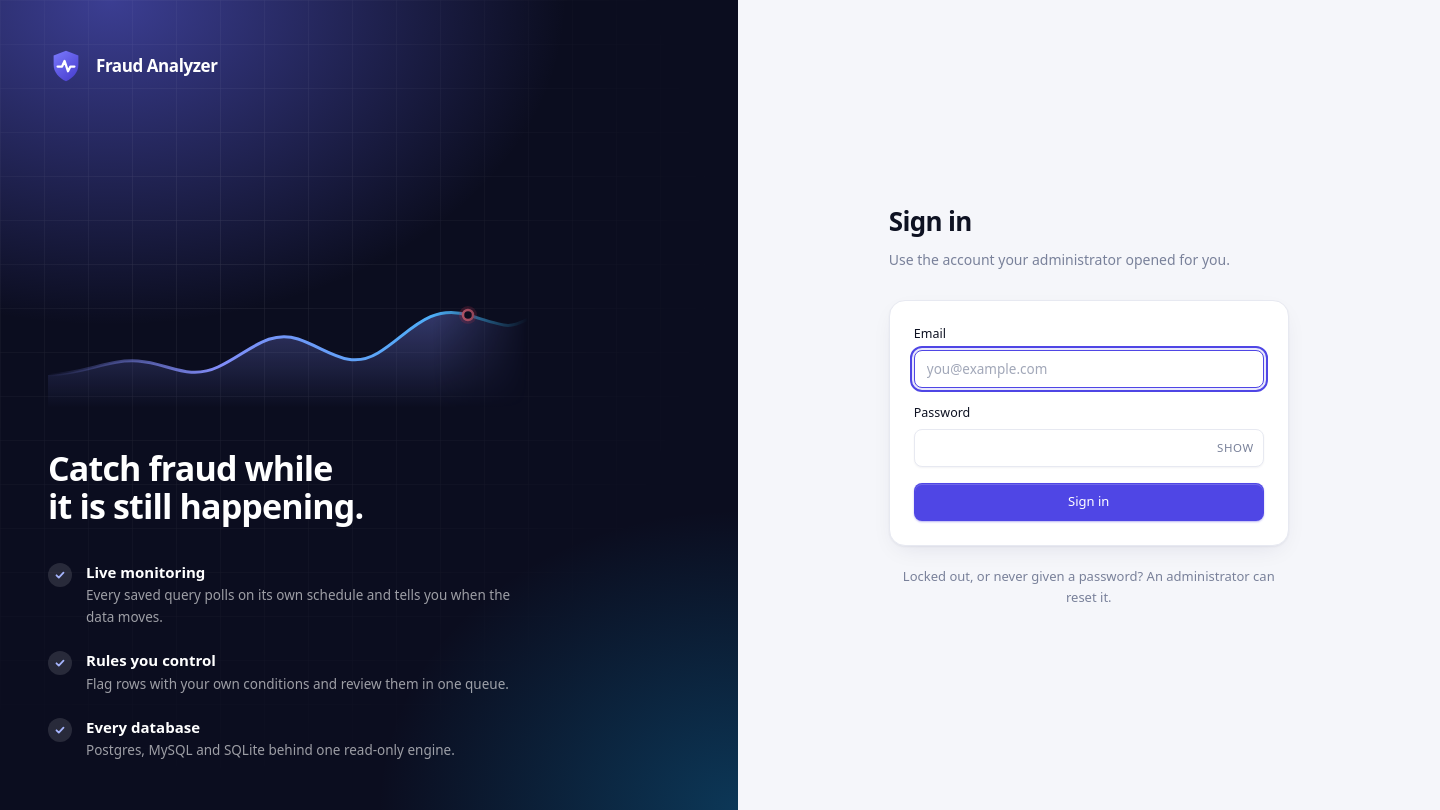
Test case: when it goes wrong › announces the failure rather than only drawing it
Type "ada@example.com" into the field labelled "Email" at (1089, 369), box [914,350,1264,388]
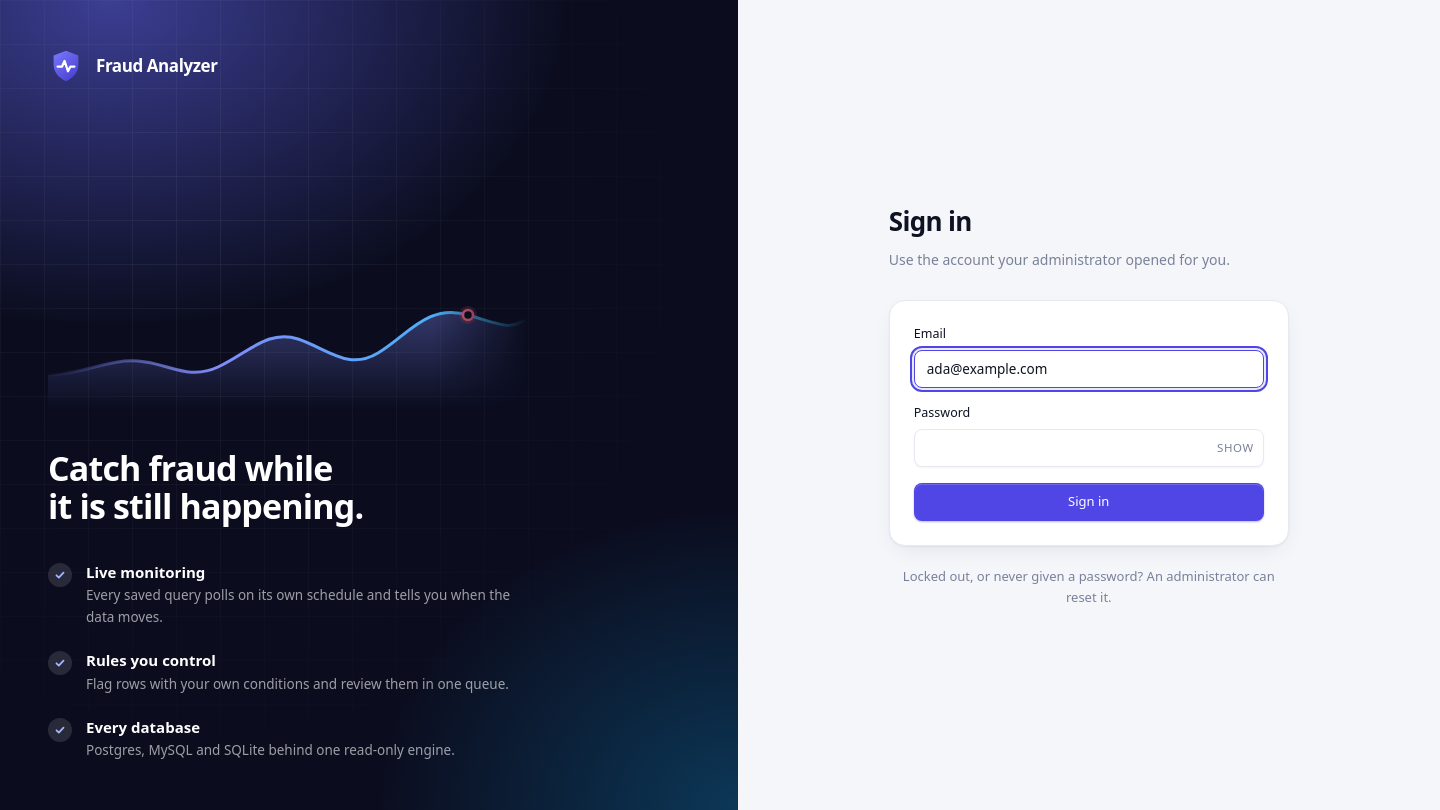
Type "hunter2hunter2" into the password field labelled "Password" at (1089, 448), box [914,429,1264,467]
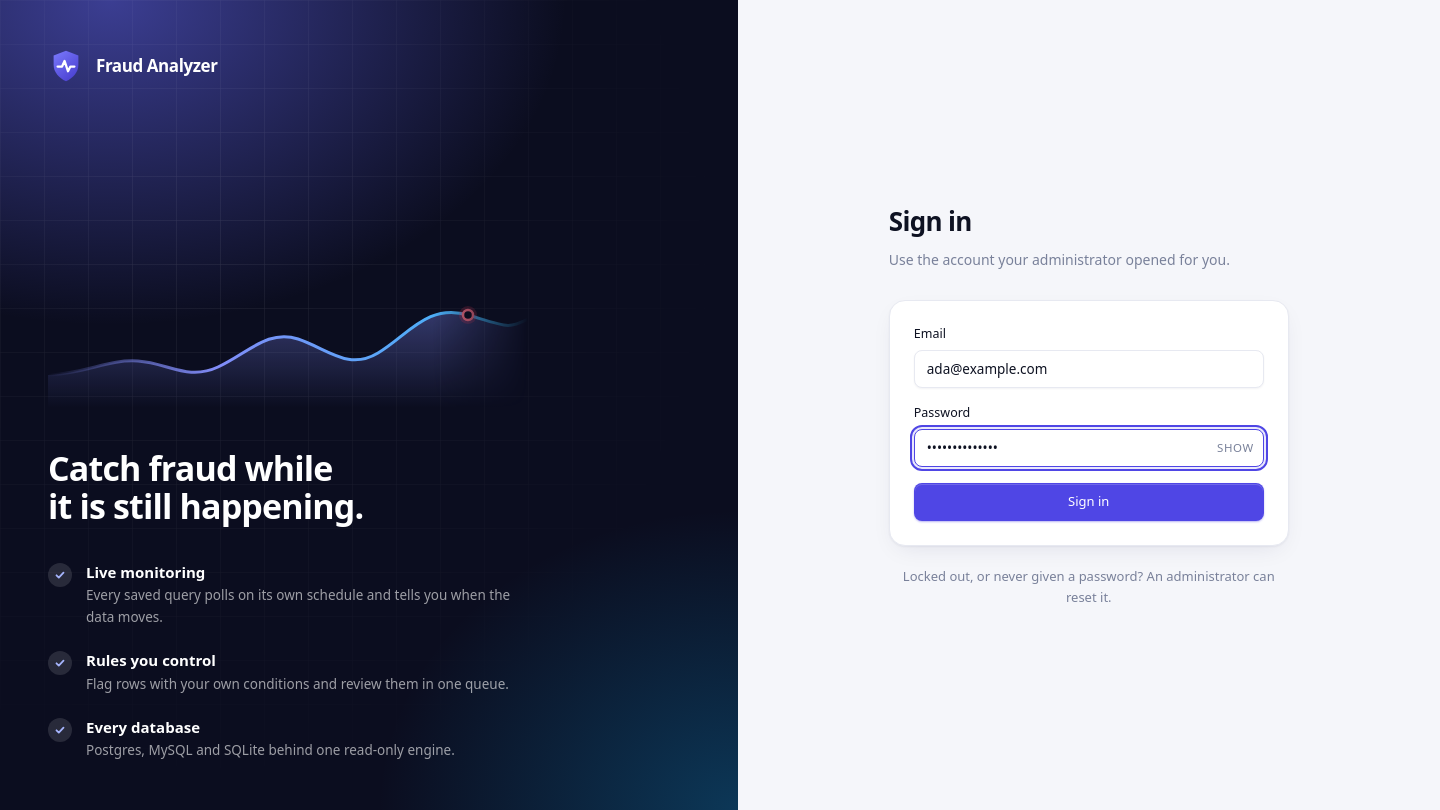
Click the button "Sign in" at (1089, 502), box [914,483,1264,520]
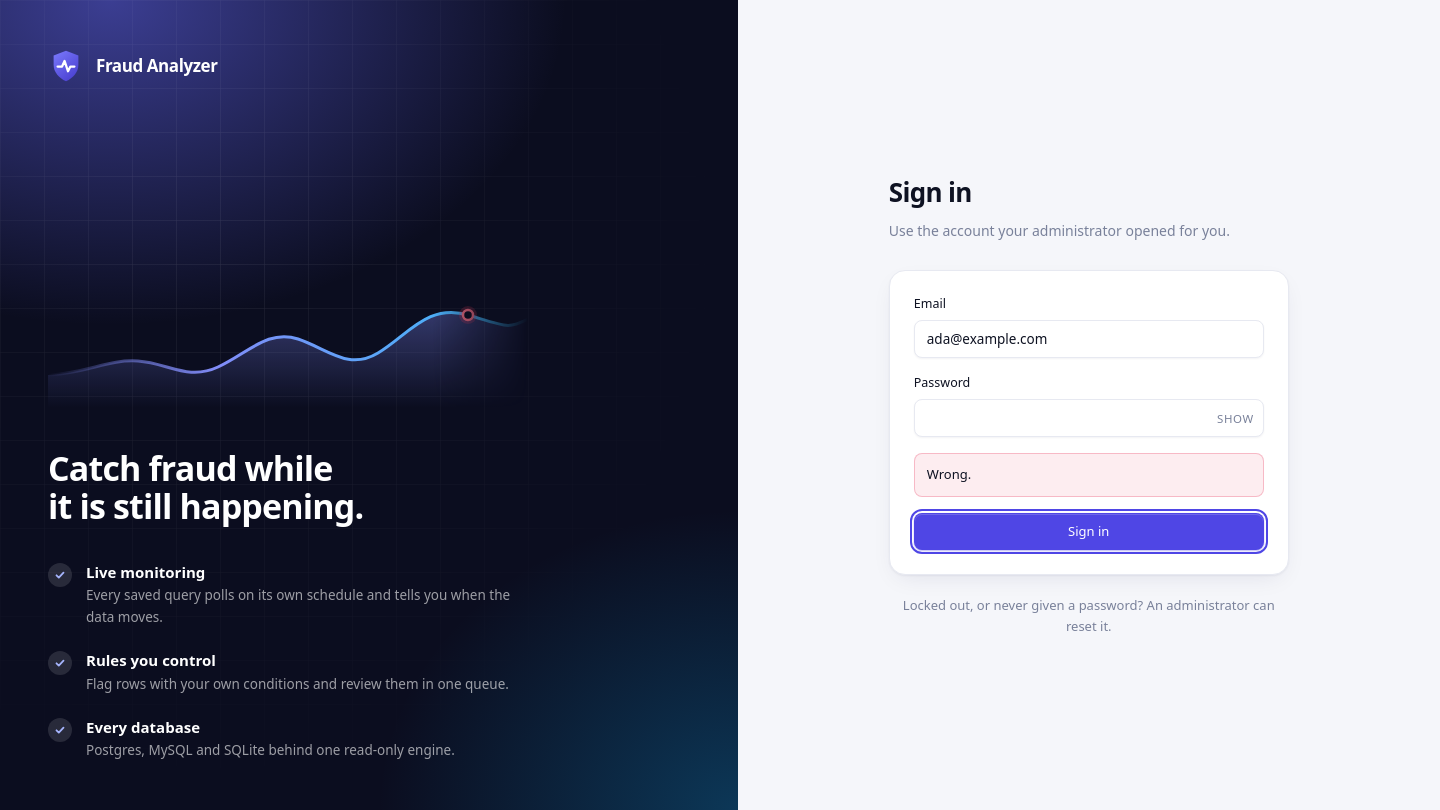
Expected: the message reads "Wrong.", [927,465,971,483]
